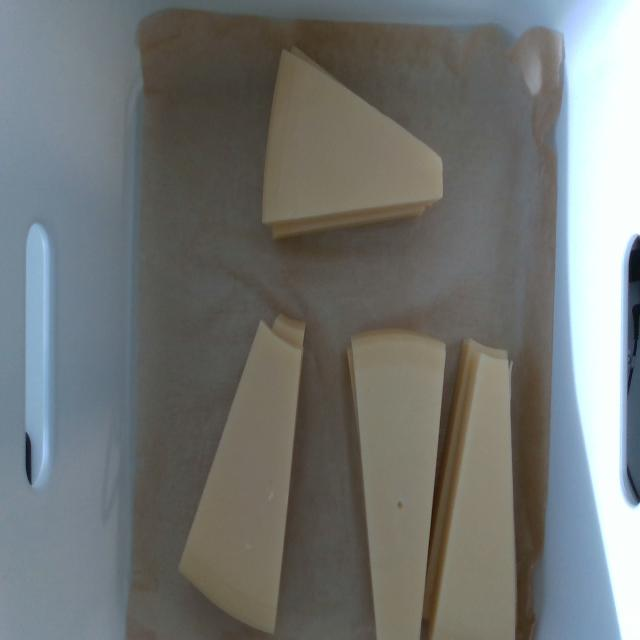Cheese: (180, 323, 301, 629), (264, 52, 443, 221), (348, 332, 445, 639), (433, 353, 516, 639)
